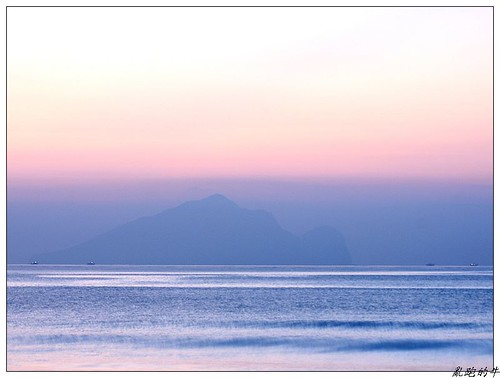turtleIsland: (32, 194, 351, 265)
